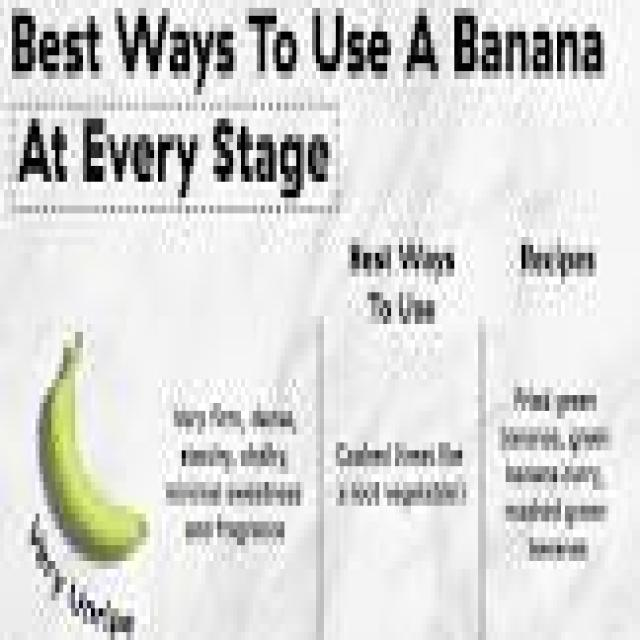banana: (44, 340, 146, 560)
